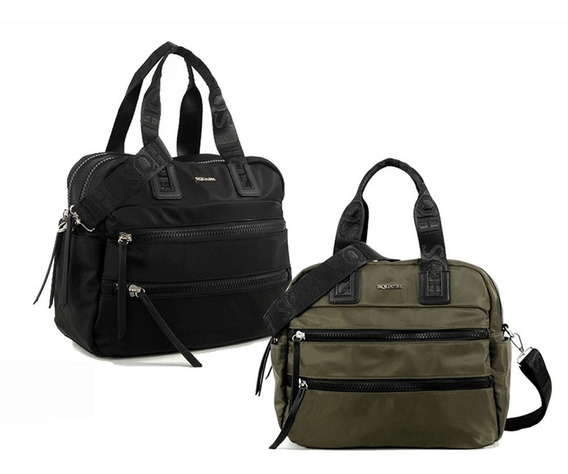cartera: (259, 157, 554, 452), (44, 40, 298, 362)
